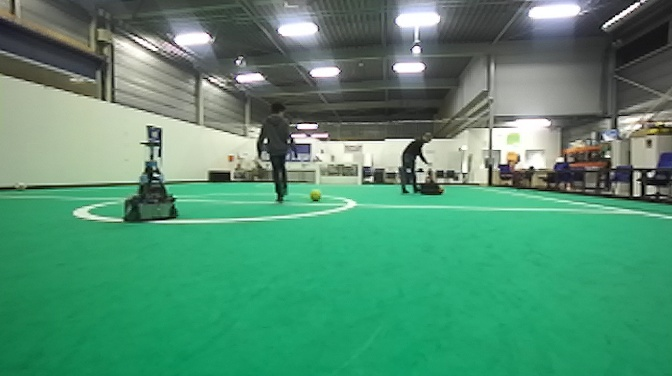ball: (308, 187, 323, 204), (11, 180, 30, 191)
goal: (313, 160, 363, 187)
goalpost: (313, 161, 320, 187), (357, 162, 363, 187)
human: (253, 103, 301, 206), (398, 132, 436, 197)
robot: (120, 138, 182, 224), (416, 163, 448, 198)
